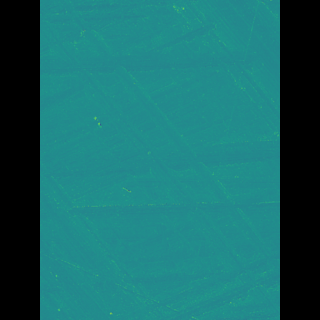Loch: (77, 25, 228, 287)
